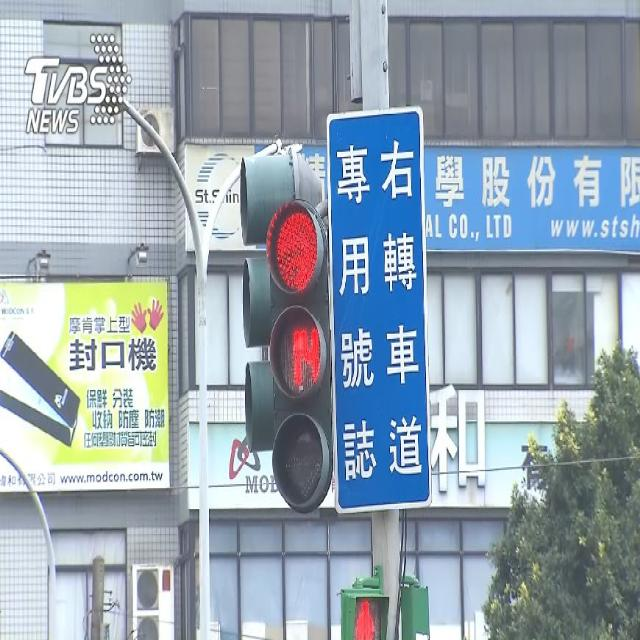red light: (266, 202, 332, 513)
